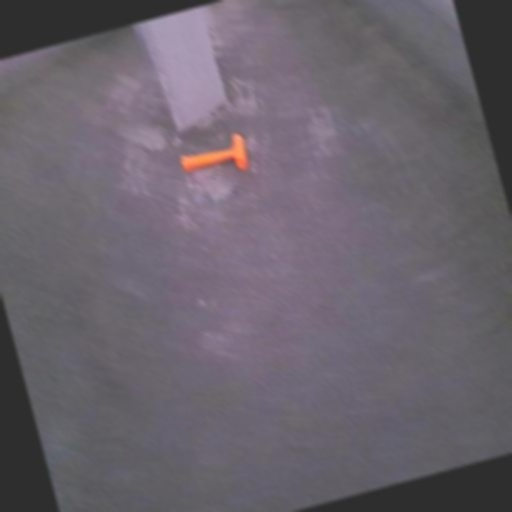mallet: (179, 135, 249, 183)
